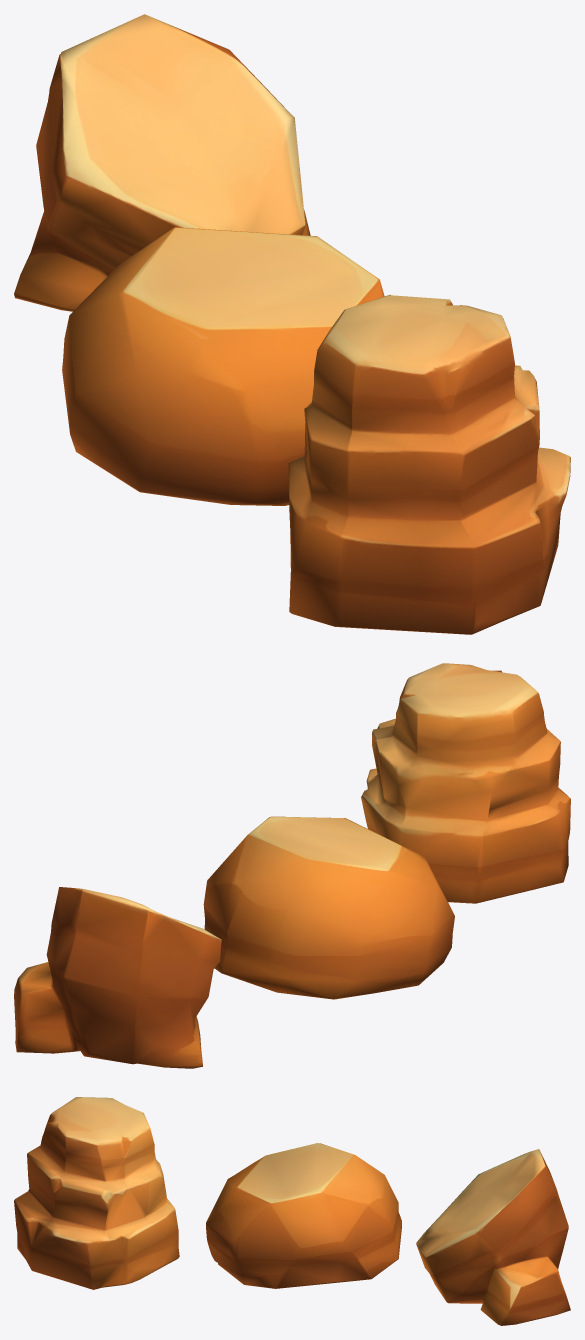
3 renders of one model, top to bottom at view 1: azimuth 30°, elevation 25°; view 2: azimuth 150°, elevation 25°; view 3: azimuth 270°, elevation 25°, orthographic. The views are drawn at different scales.
Visible parts, largest first — view 1: tripo_node_2e290aaa-b677-4edb-8dd8-7c80bdabb96f; view 2: tripo_node_2e290aaa-b677-4edb-8dd8-7c80bdabb96f; view 3: tripo_node_2e290aaa-b677-4edb-8dd8-7c80bdabb96f.
Part boxes in pixels (<box>): tripo_node_2e290aaa-b677-4edb-8dd8-7c80bdabb96f: <box>14,14,570,634</box>; tripo_node_2e290aaa-b677-4edb-8dd8-7c80bdabb96f: <box>14,663,570,1068</box>; tripo_node_2e290aaa-b677-4edb-8dd8-7c80bdabb96f: <box>14,1097,570,1325</box>.
Bounding box in the file's own units: 0.4638 × 0.2798 × 1.
Materials: 1 (1 with a texture image).
